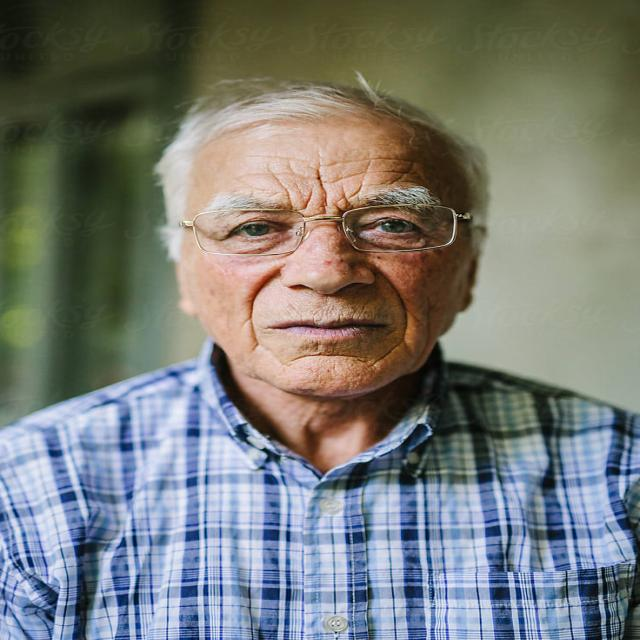Glasses: (174, 201, 472, 260)
